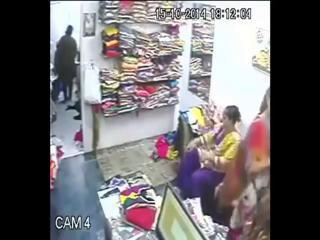Normal: (175, 106, 243, 221), (224, 87, 271, 239), (54, 25, 78, 104)
